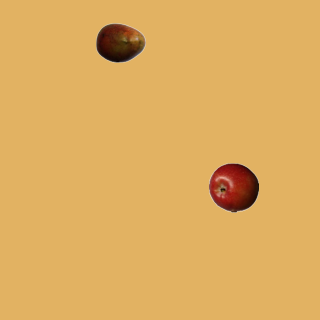Apple Braeburn: (208, 162, 258, 212)
Mango Red: (95, 17, 145, 67)
